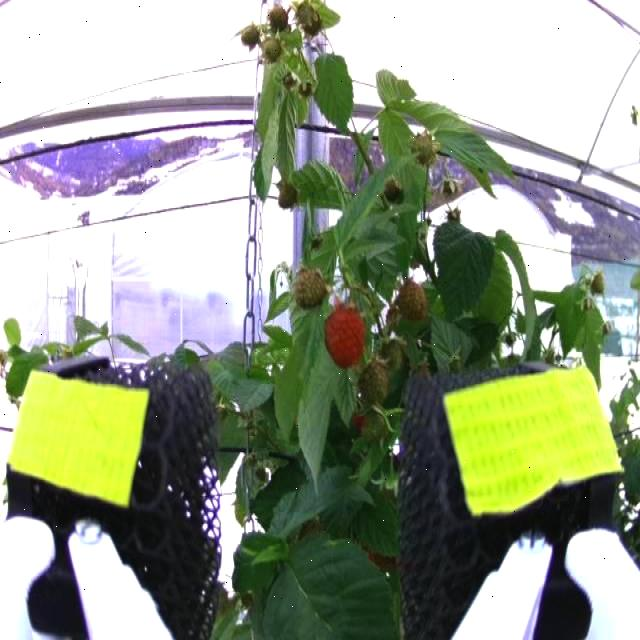Riped berries: (320, 304, 370, 368)
